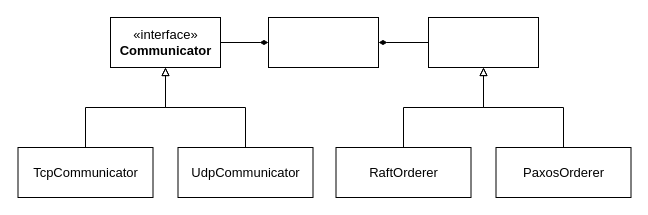
This 648x215 diagram has some shape labels left out. Here are the shapes that lost their labels. From the top down, the centre of each, then its label:
pixel 323 42: Proxy
pixel 483 42: «interface» Orderer
